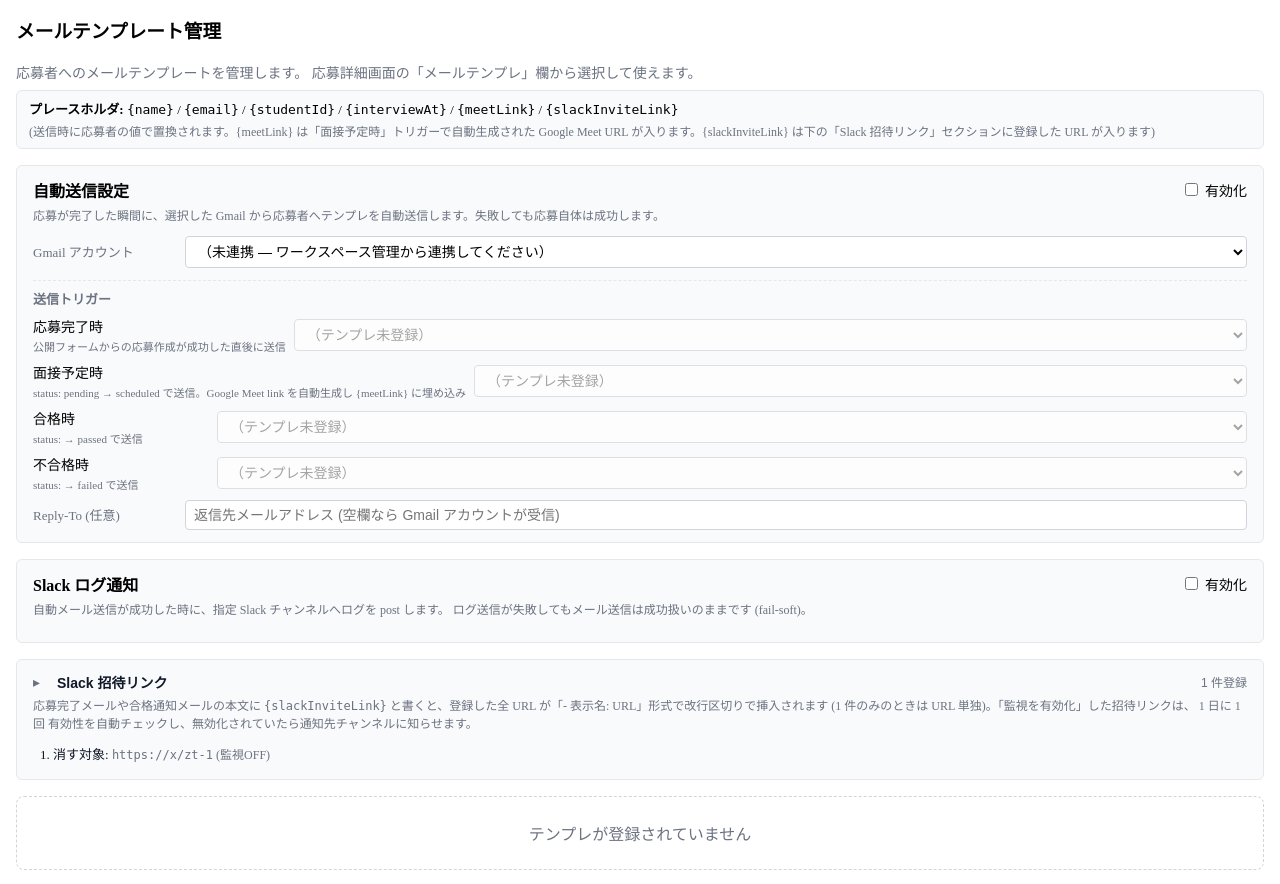
Test case: EmailTemplatesEditor smoke (Phase4-5 slackInvites 番人) › 削除ボタンで招待リンクが一覧から消える
Step 1. Click the button "▸ Slack 招待リンク 1 件登録" → {"x": 112, "y": 683}, box [33, 672, 1247, 692]
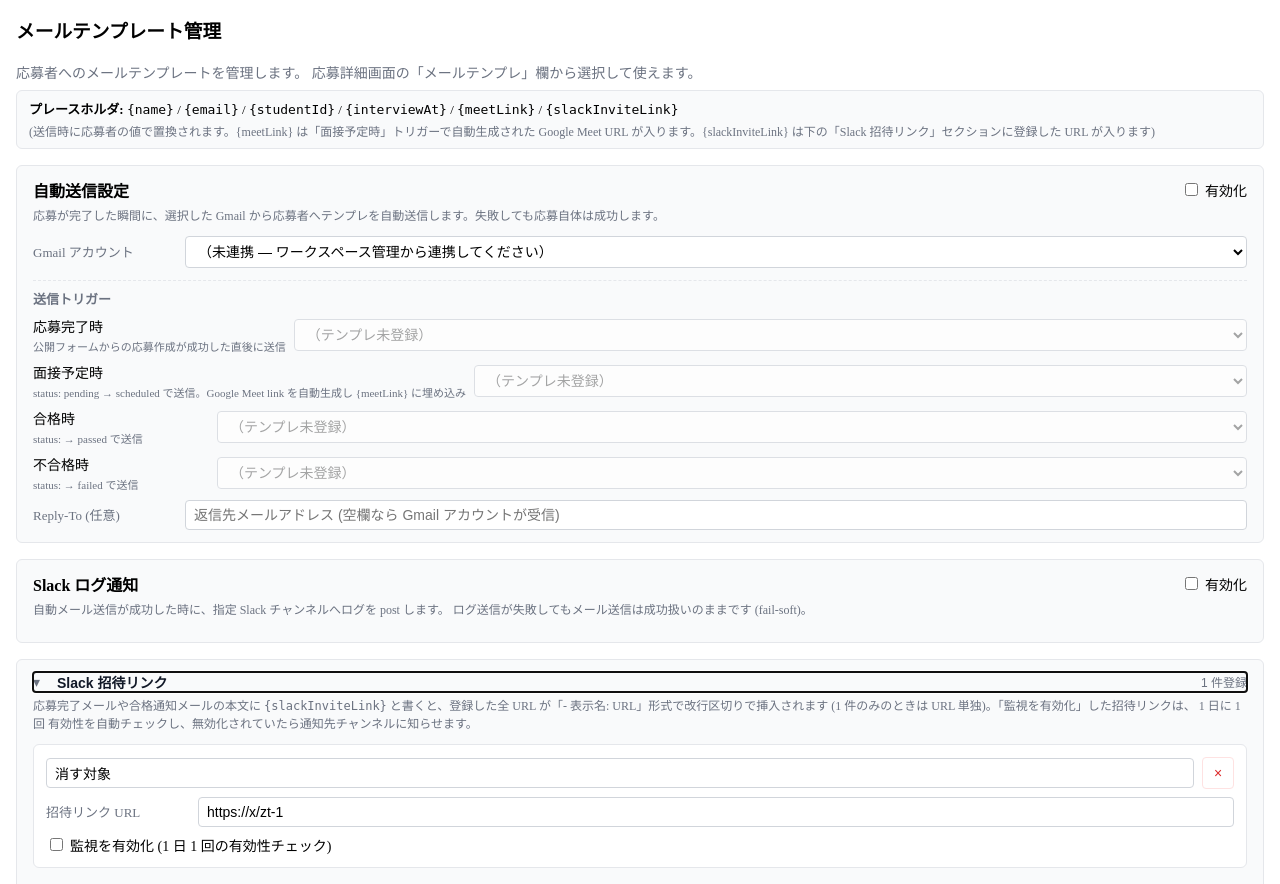
Expected: the 1st field showing "消す対象" is shown, [46, 758, 1194, 788]
Step 2. Click the button named "「消す対象」を削除" → {"x": 1218, "y": 773}, box [1202, 757, 1234, 789]
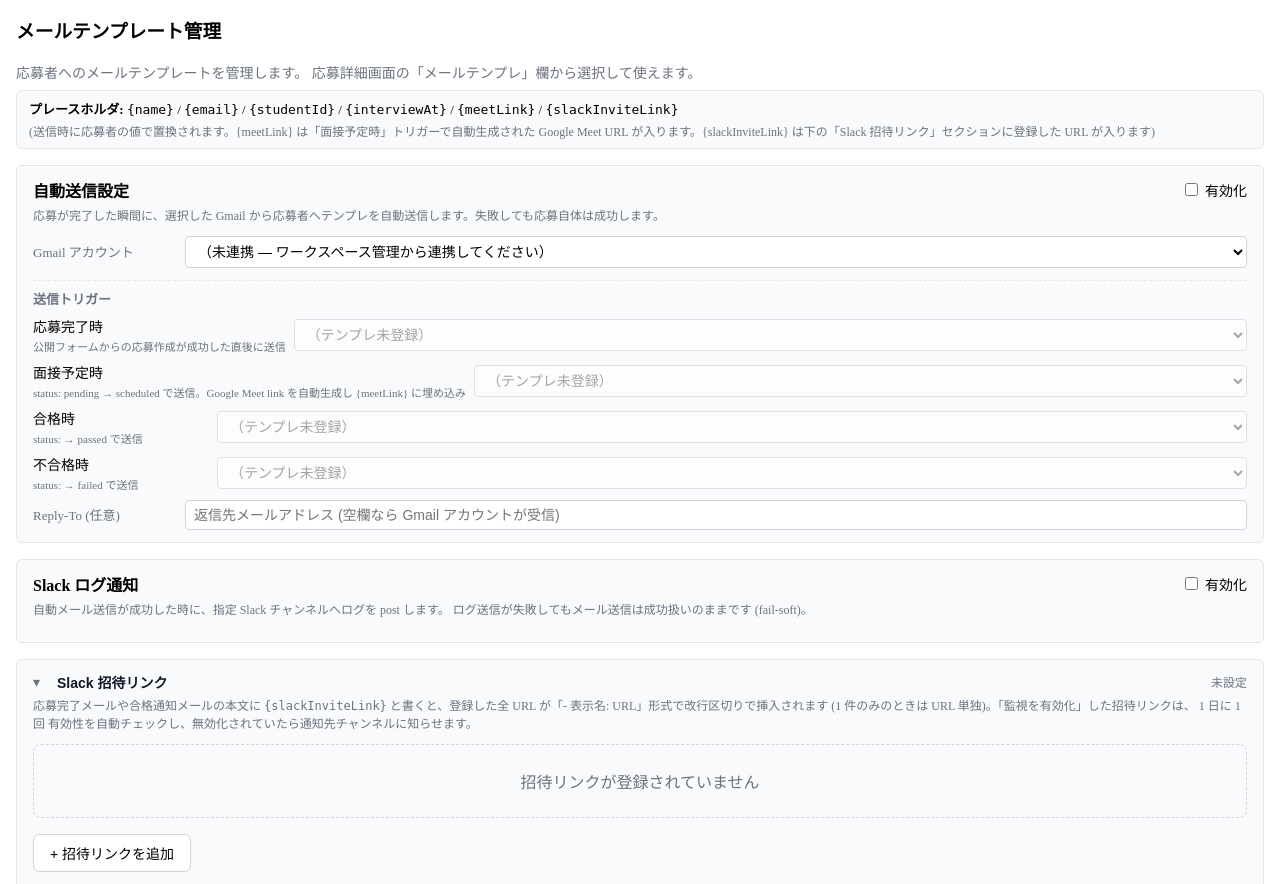
Expected: the text showing "消す対象" is not shown
Expected: the text "招待リンクが登録されていません" is shown, [33, 744, 1247, 818]
